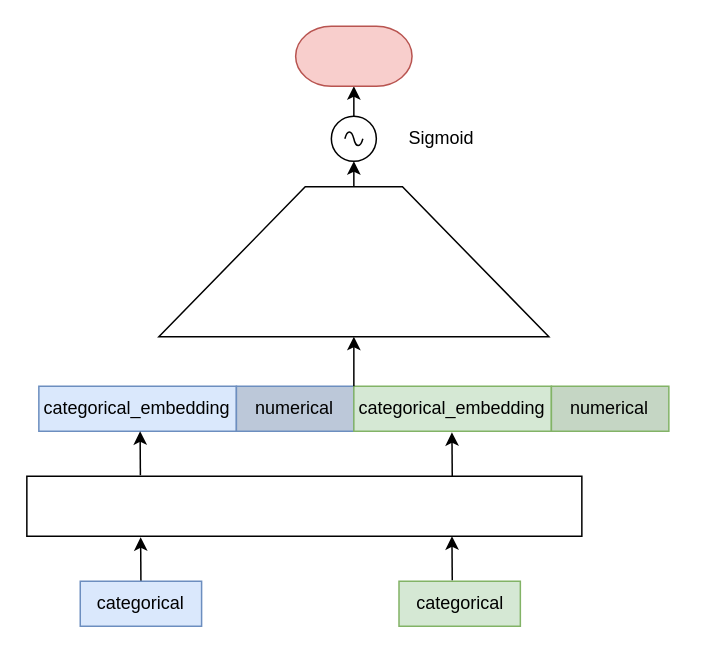
This 711x653 diagram has some shape labels left out. Each missing label, with the box of its shape:
dec_probs: (294, 25, 412, 86)
DNN: (157, 185, 549, 337)
Embedding Layer: (25, 475, 582, 536)
